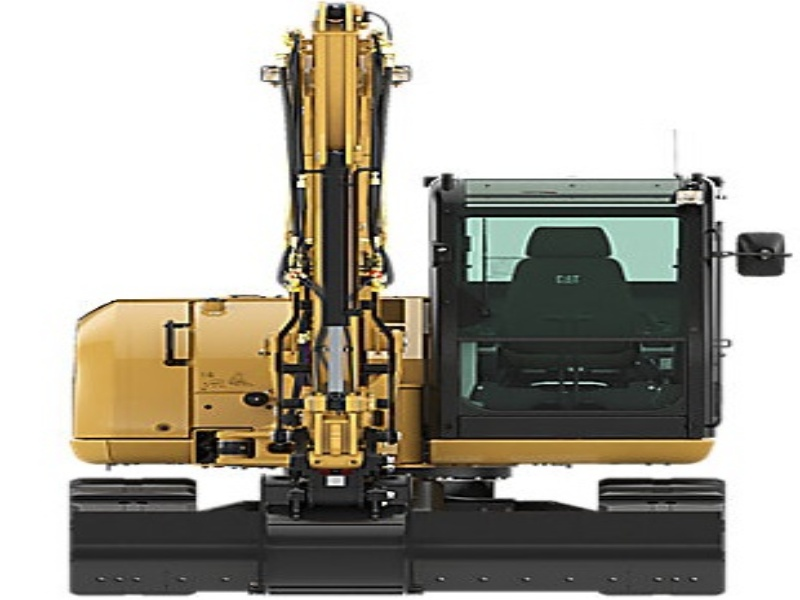wajueji: (48, 18, 775, 600)
